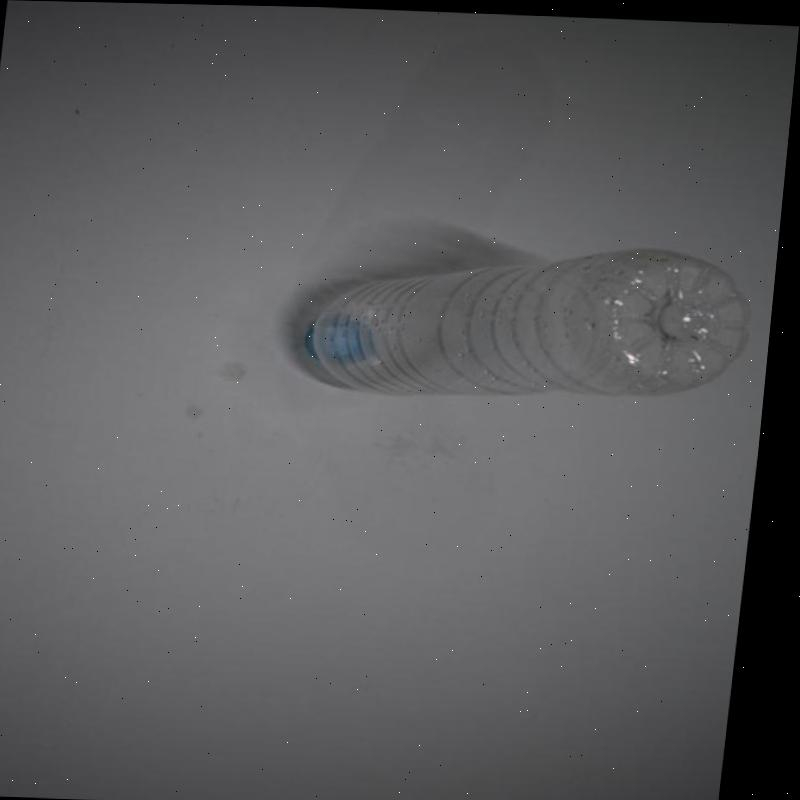botella: (300, 231, 765, 401)
